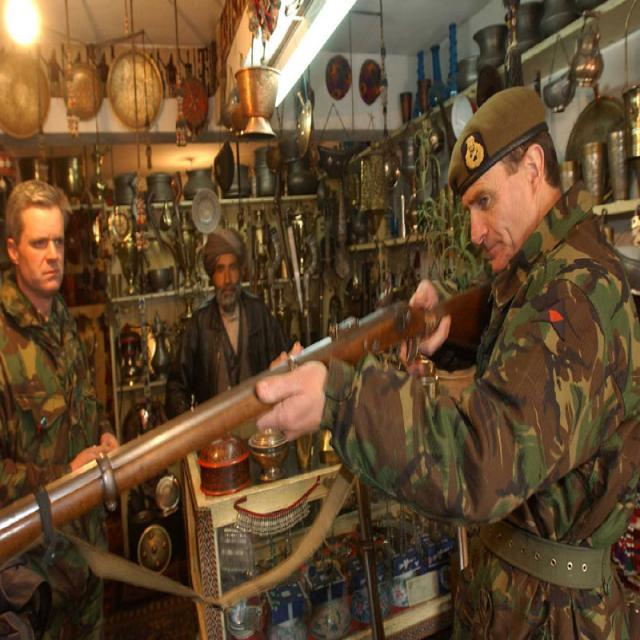rifle: (2, 321, 541, 567)
